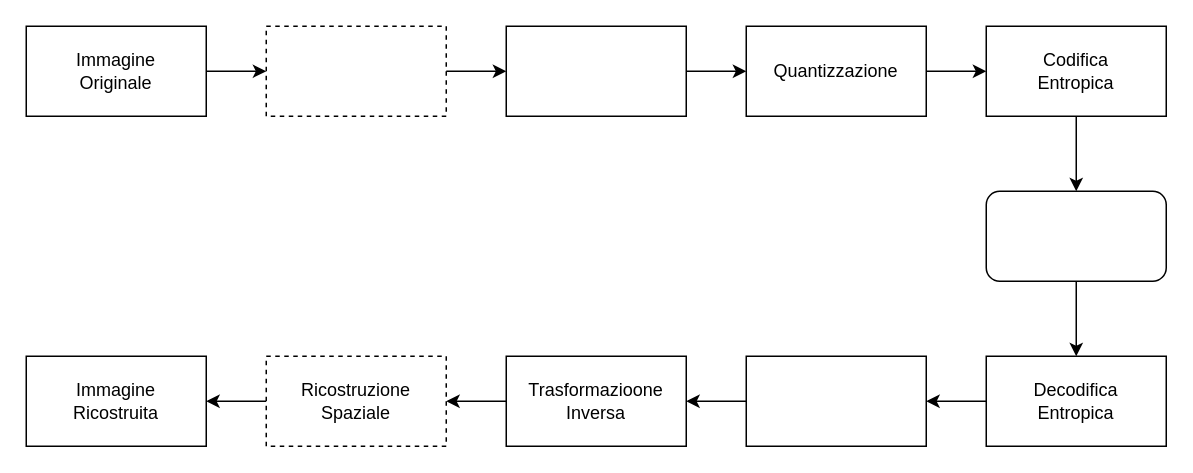
This 1193x473 diagram has some shape labels left out. The centre of each missing label's shape, as x and y in pixels:
"Canale di Trasmissione" belongs at [1075,235].
"Dequantizzazione" belongs at [835,400].
"Predizione Spaziale" belongs at [355,70].
"Trasformazione" belongs at [595,70].
